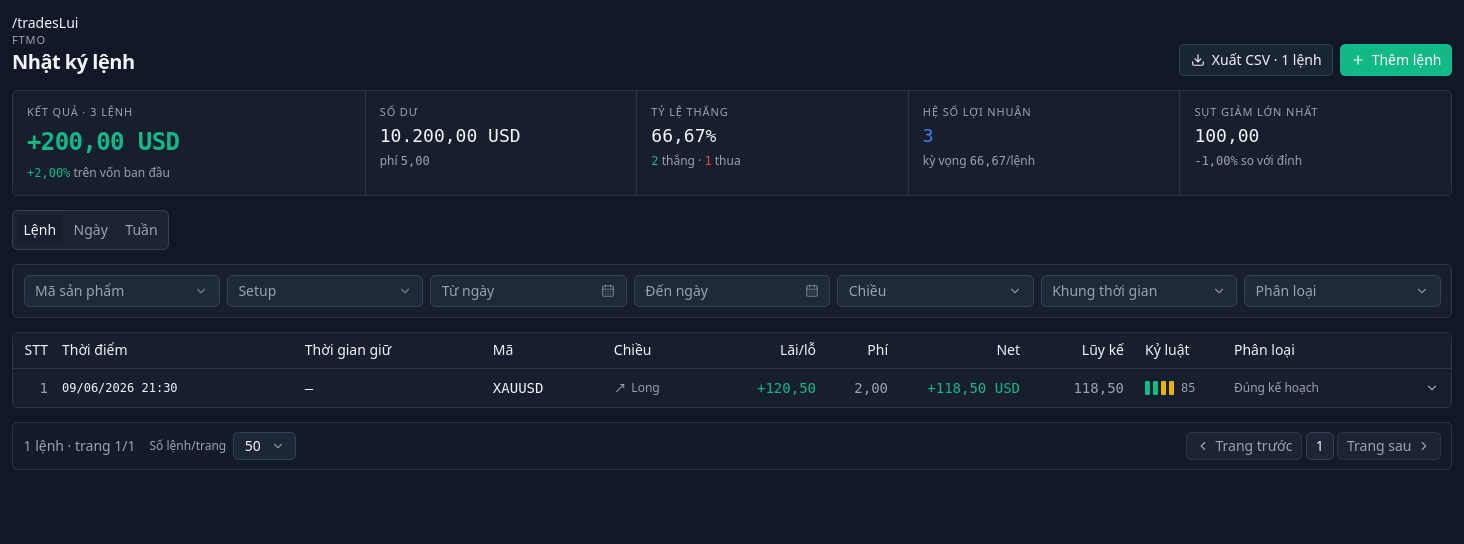
Scenario: export lỗi thì báo cho người dùng, không im lặng
The width and height of the screenshot is (1464, 544).
Click the button "Xuất CSV · 1 lệnh". click: click(1256, 60)
box: [1179, 44, 1333, 76]
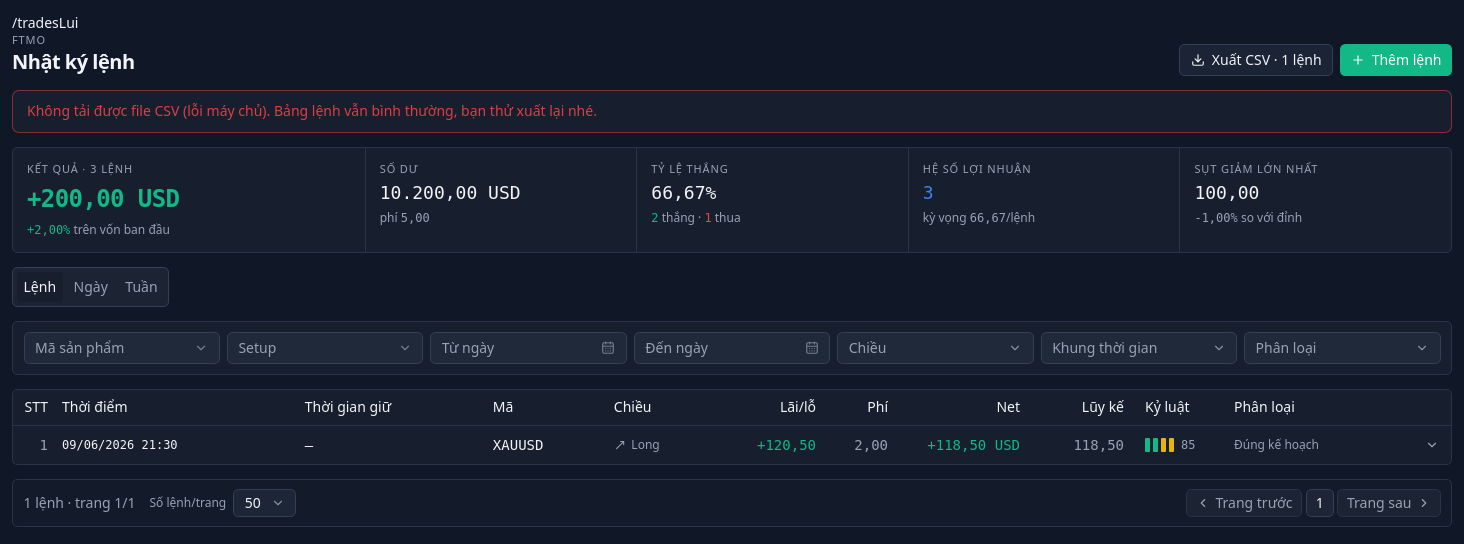
Expected: the row "XAUUSD" is shown, [13, 425, 1451, 464]
Result: the text "Không tải được file CSV (lỗi máy chủ). Bảng lệnh vẫn bình thường" is shown at [27, 101, 597, 120]
